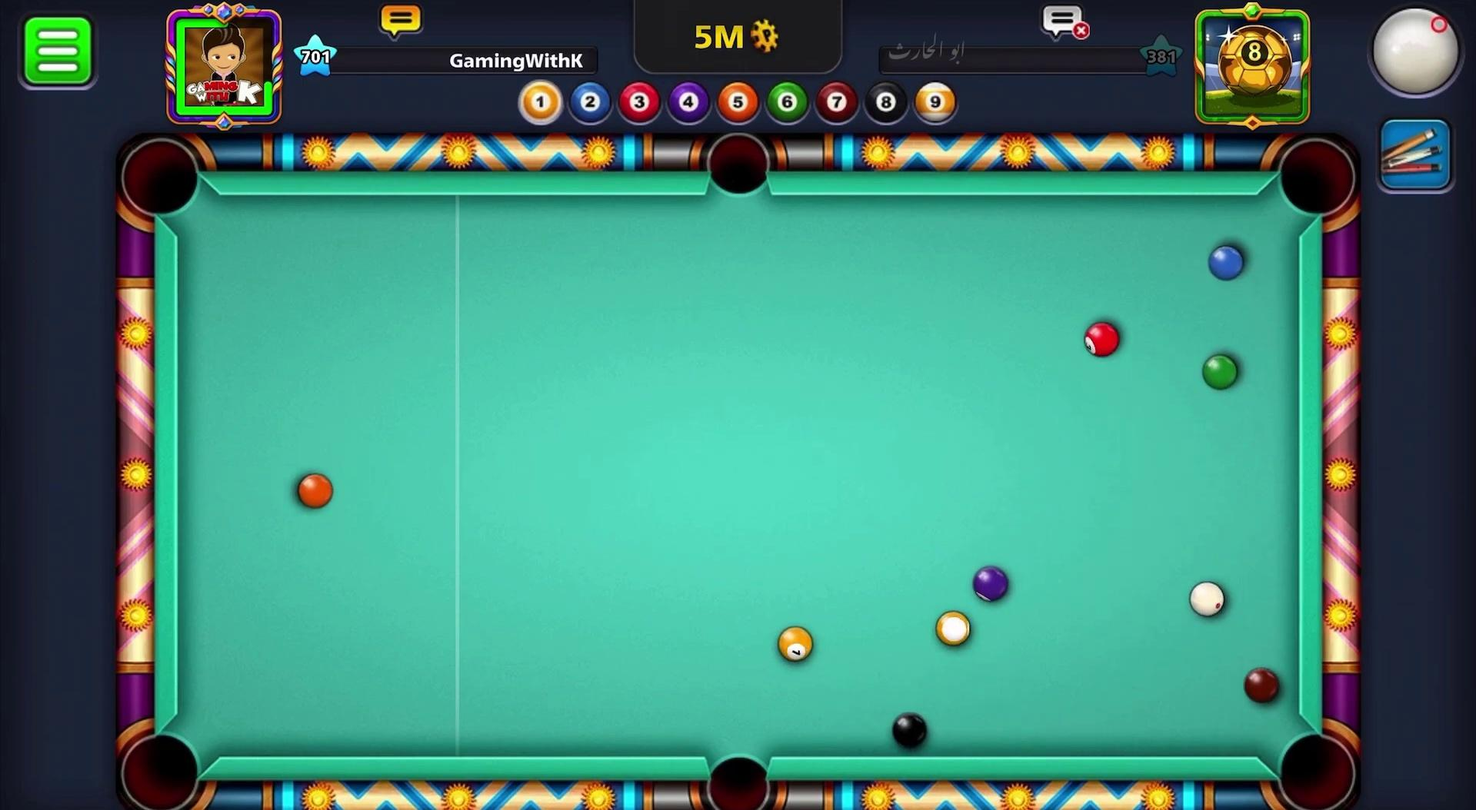Ball: (883, 709, 935, 752), (290, 469, 337, 514), (772, 622, 816, 667), (1205, 243, 1246, 286), (1082, 318, 1121, 362), (1201, 350, 1241, 391), (971, 564, 1011, 603), (1241, 664, 1281, 702), (936, 609, 973, 649)
Hole: (108, 129, 212, 230), (1267, 129, 1364, 234), (1264, 715, 1361, 809), (112, 720, 210, 809), (684, 742, 788, 809), (700, 123, 779, 206)
Play_Area: (177, 198, 1299, 761)
Spin: (1341, 0, 1475, 117)
White: (1185, 577, 1232, 618)
